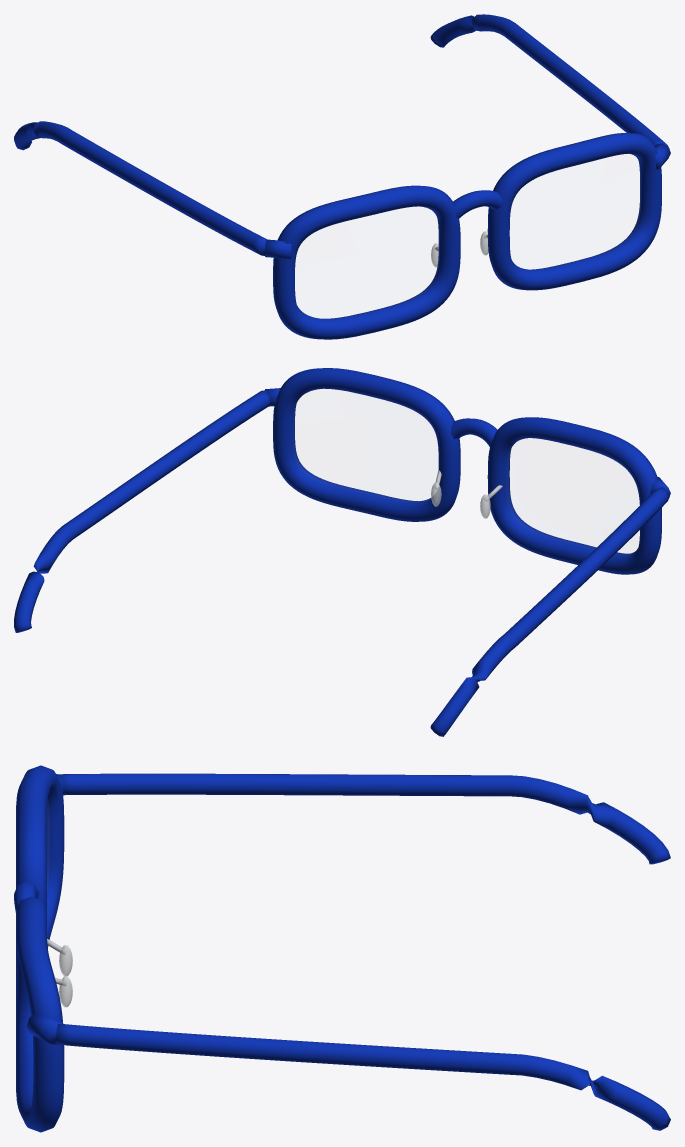
File: tim-04-v1.glb
The picture shows the model from 3 angles, top to bottom: view 1: azimuth 30°, elevation 25°; view 2: azimuth 150°, elevation 25°; view 3: azimuth 270°, elevation 25°; orthographic projection. The views are drawn at different scales.
Parts seen in each view (by area): view 1: rim_right, rim_left, temple_right, temple_left, bridge; view 2: rim_left, rim_right, temple_left, temple_right, bridge; view 3: temple_left, temple_right, rim_left, rim_right, endpiece_left.
Part boxes in pixels (x1=…): rim_right: x1=273, y1=185, x2=460, y2=339; rim_left: x1=487, y1=133, x2=661, y2=290; temple_right: x1=14, y1=121, x2=267, y2=255; temple_left: x1=430, y1=14, x2=669, y2=149; bridge: x1=453, y1=190, x2=502, y2=218; rim_left: x1=273, y1=368, x2=460, y2=521; rim_right: x1=487, y1=417, x2=661, y2=574; temple_left: x1=14, y1=390, x2=270, y2=632; temple_right: x1=430, y1=487, x2=669, y2=736; bridge: x1=451, y1=418, x2=497, y2=446; temple_left: x1=56, y1=1024, x2=670, y2=1130; temple_right: x1=58, y1=773, x2=670, y2=864; rim_left: x1=16, y1=896, x2=64, y2=1132; rim_right: x1=16, y1=765, x2=64, y2=948; endpiece_left: x1=26, y1=1014, x2=63, y2=1044.
Size of the model in its own units: 0.1582 by 0.0456 by 0.1526.
